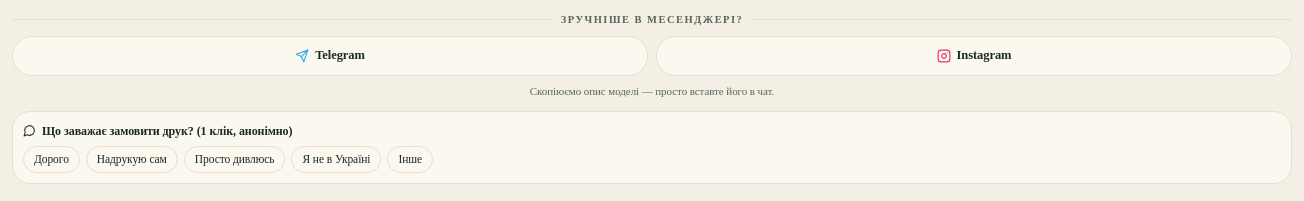
Test case: SalesAlternatives · відповідь на причину відмови › на причину «look» відповідає по суті, а не «дякуємо»
This screenshot has width=1304, height=201.
Click the button "Просто дивлюсь": (235, 160) [184,146,285,173]
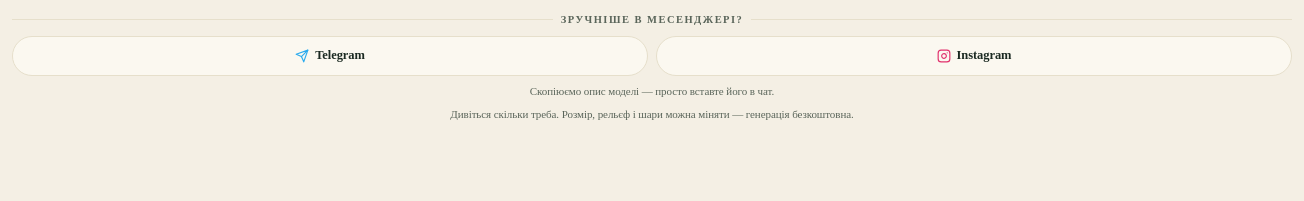
Result: the element with test id "why-not-order" is gone
